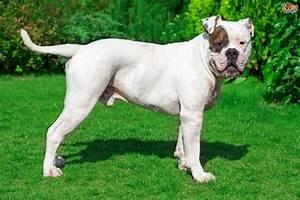dog: (19, 14, 254, 183)
